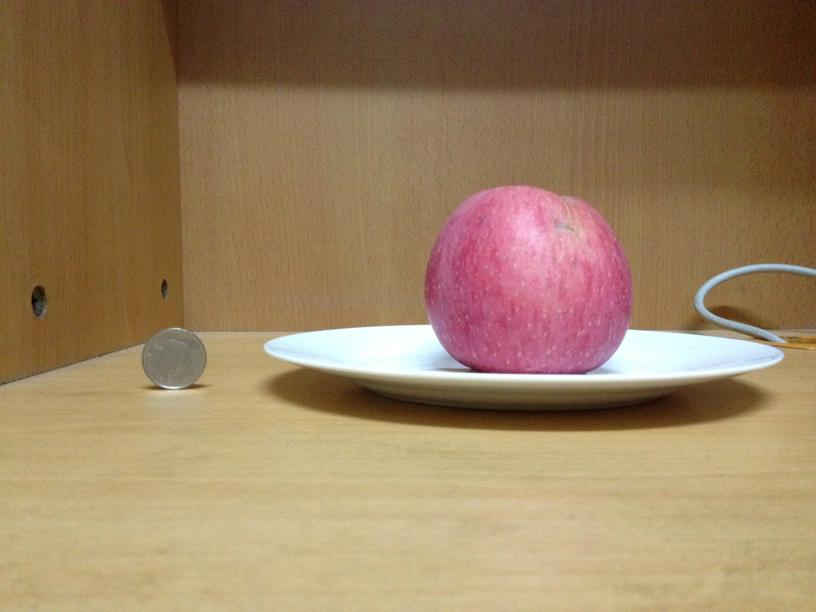apple: (420, 182, 633, 373)
coin: (142, 324, 208, 391)
